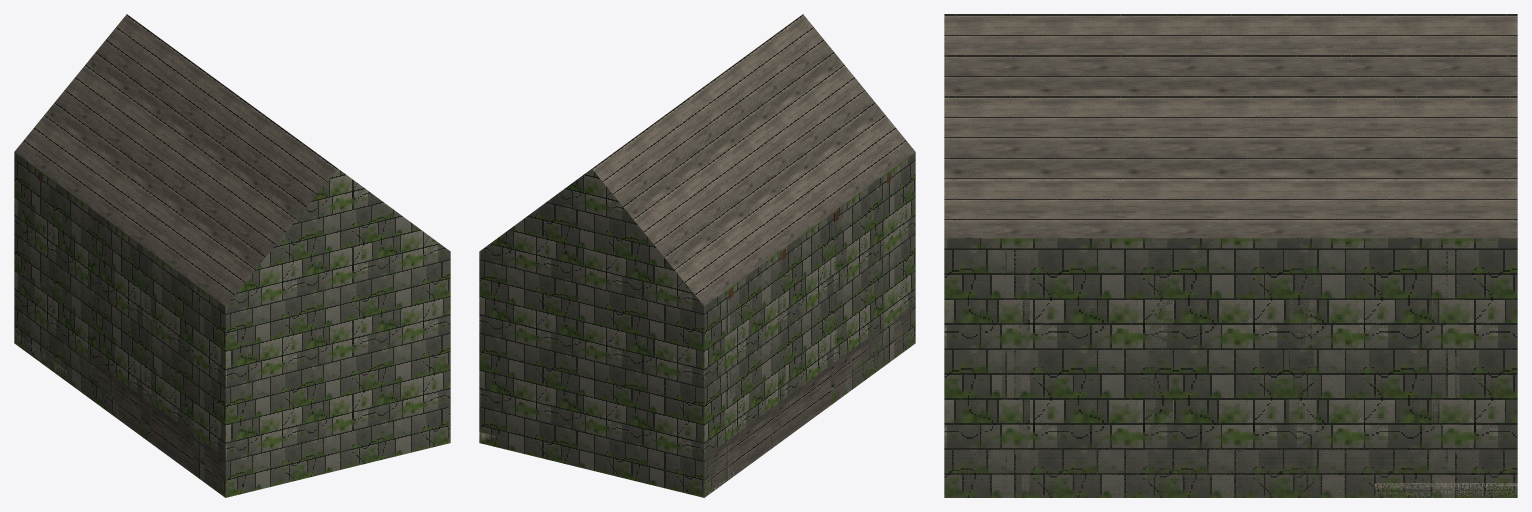
Rendered from capilla_interior.obj.
3 views of the same model, side by side, from view 1: azimuth 30°, elevation 25°; view 2: azimuth 150°, elevation 25°; view 3: azimuth 270°, elevation 25° (orthographic). The views are drawn at different scales.
Parts seen in each view (by area): view 1: capilla_interior; view 2: capilla_interior; view 3: capilla_interior.
Boxes of the visible parts, x1,y1,x2,y2 form: capilla_interior: (14,14,450,497); capilla_interior: (479,14,915,497); capilla_interior: (944,14,1517,497).
Size of the model in its own units: 6.4 by 8.2 by 10.4.
8 materials, 8 textured.
